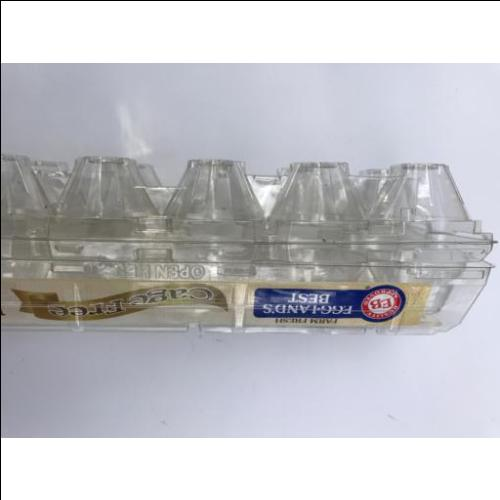plastic: (1, 160, 493, 333)
